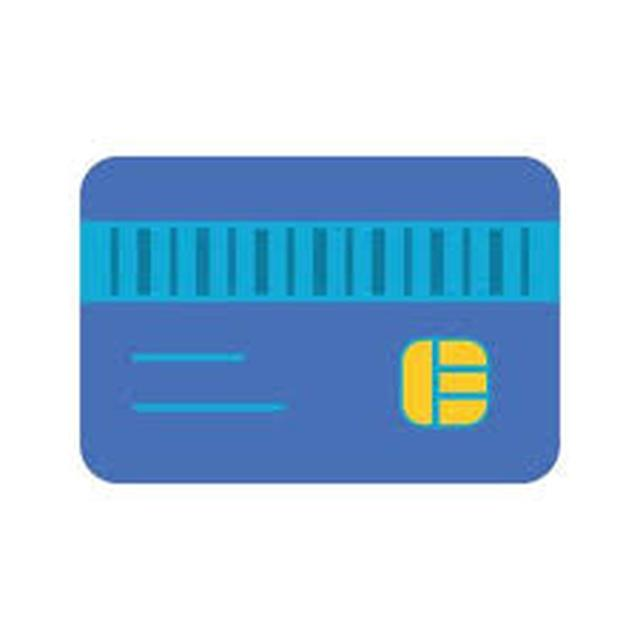card: (48, 145, 574, 513)
